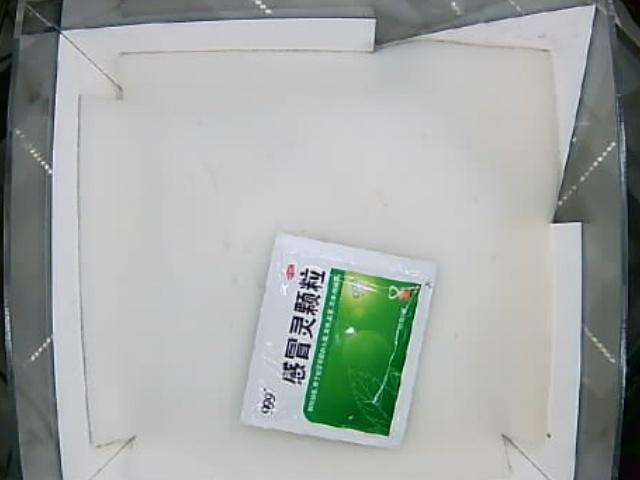Medicine: (237, 227, 439, 450)
